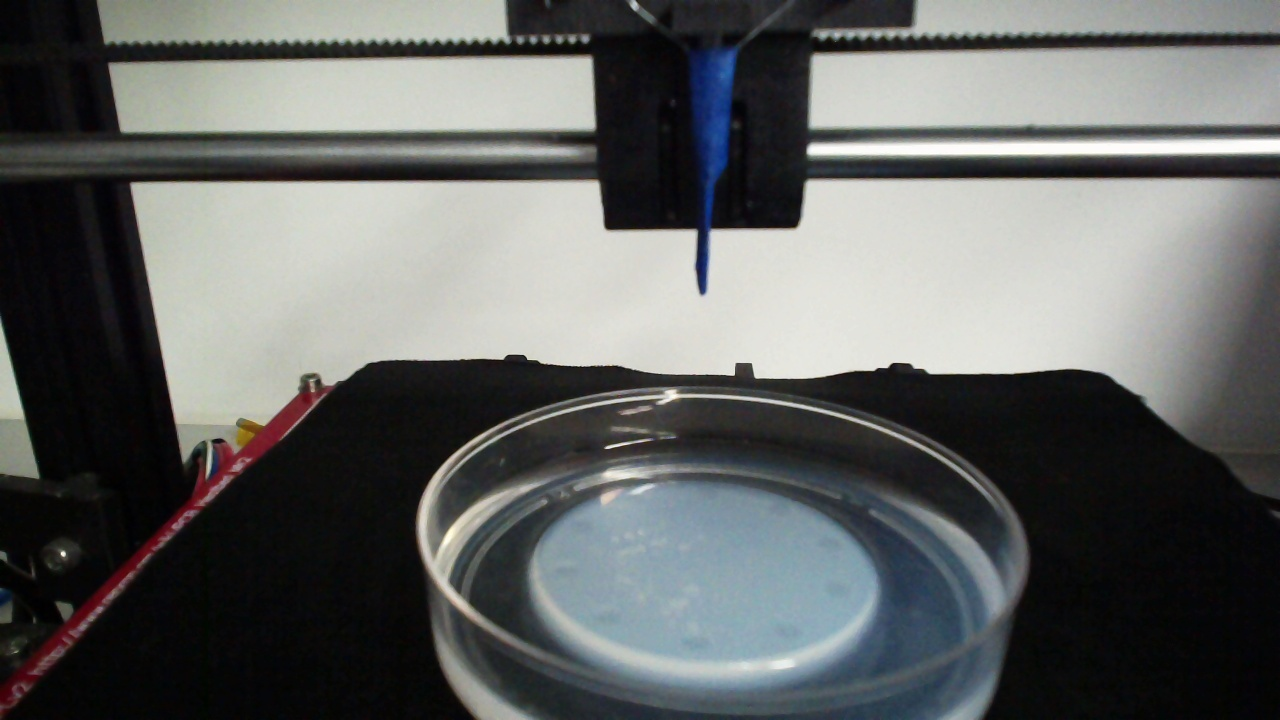groove: (818, 575, 851, 599), (680, 631, 711, 655), (593, 609, 625, 631), (550, 563, 582, 584), (816, 534, 846, 555), (569, 516, 599, 537), (772, 620, 800, 642), (765, 499, 792, 519), (696, 485, 725, 501)
needle: (686, 52, 733, 296)
